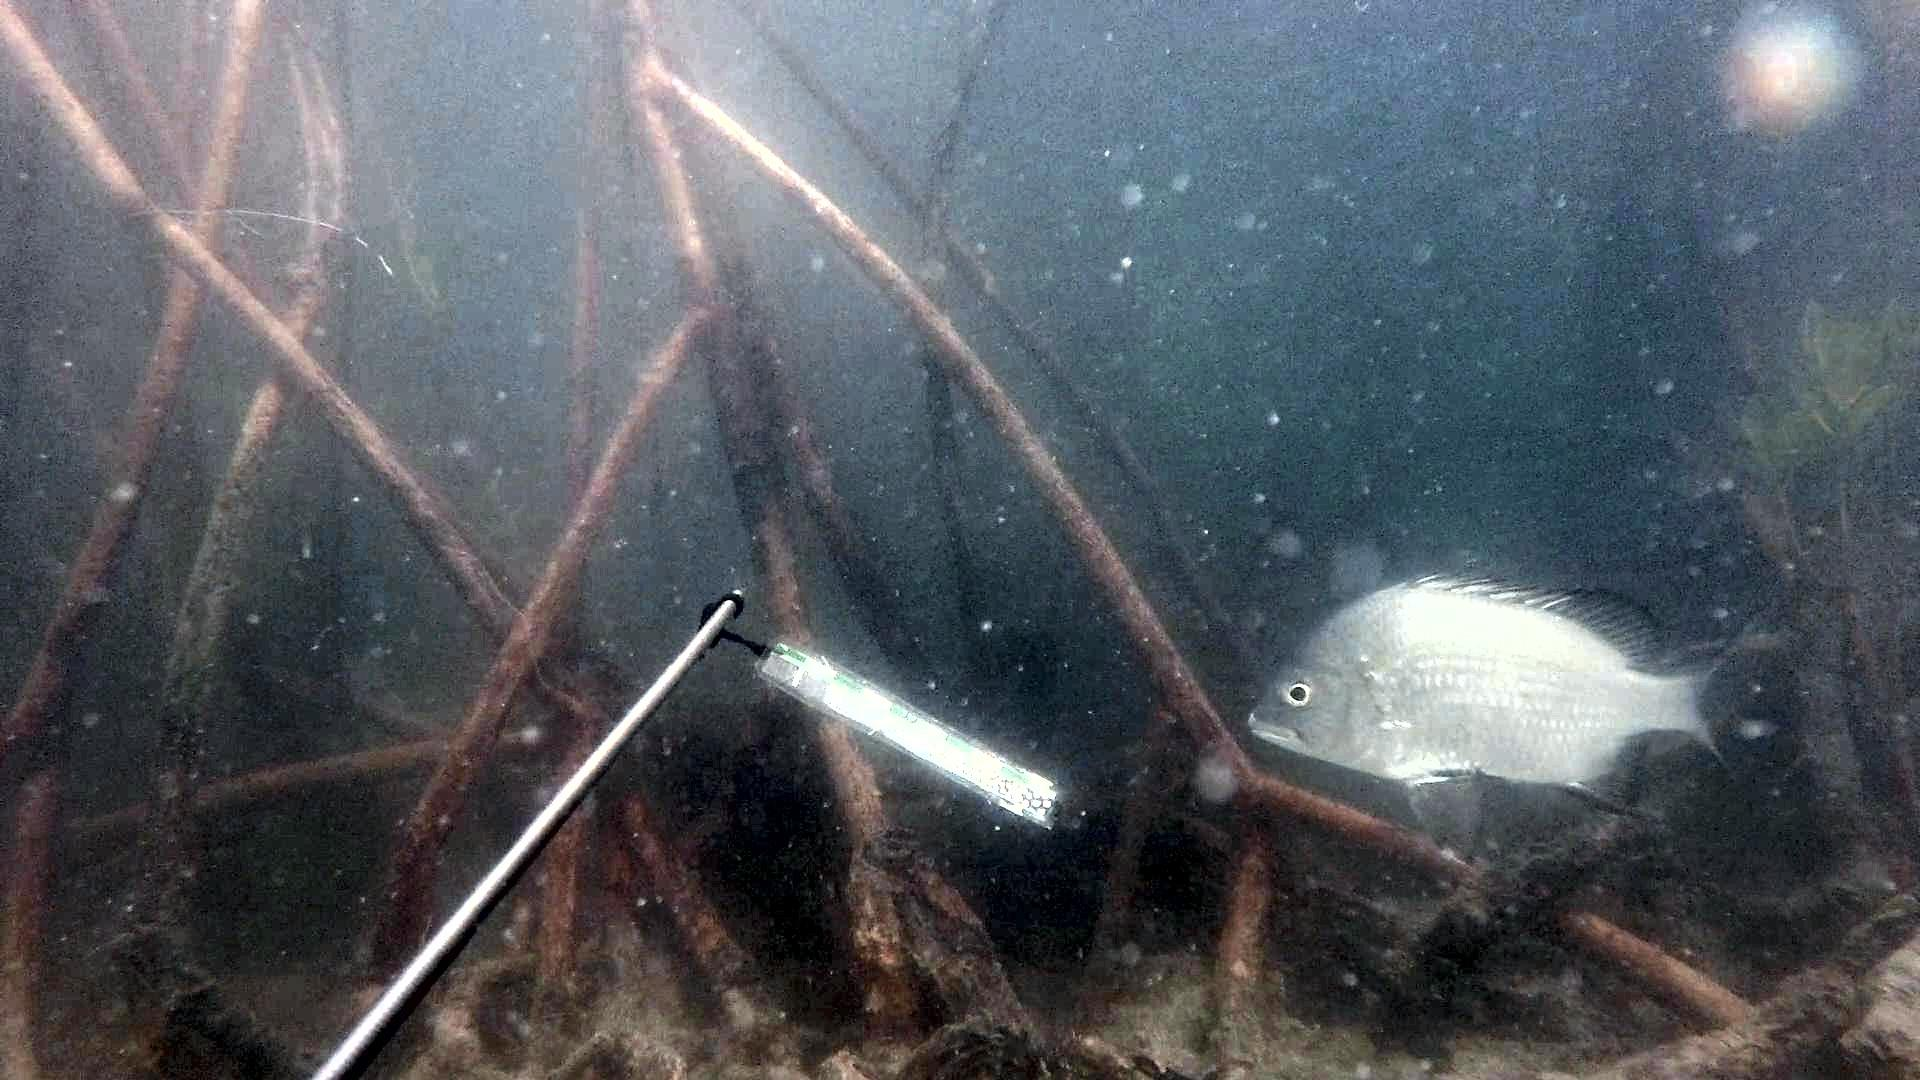acanthopagrus palmaris: (1241, 566, 1771, 872)
